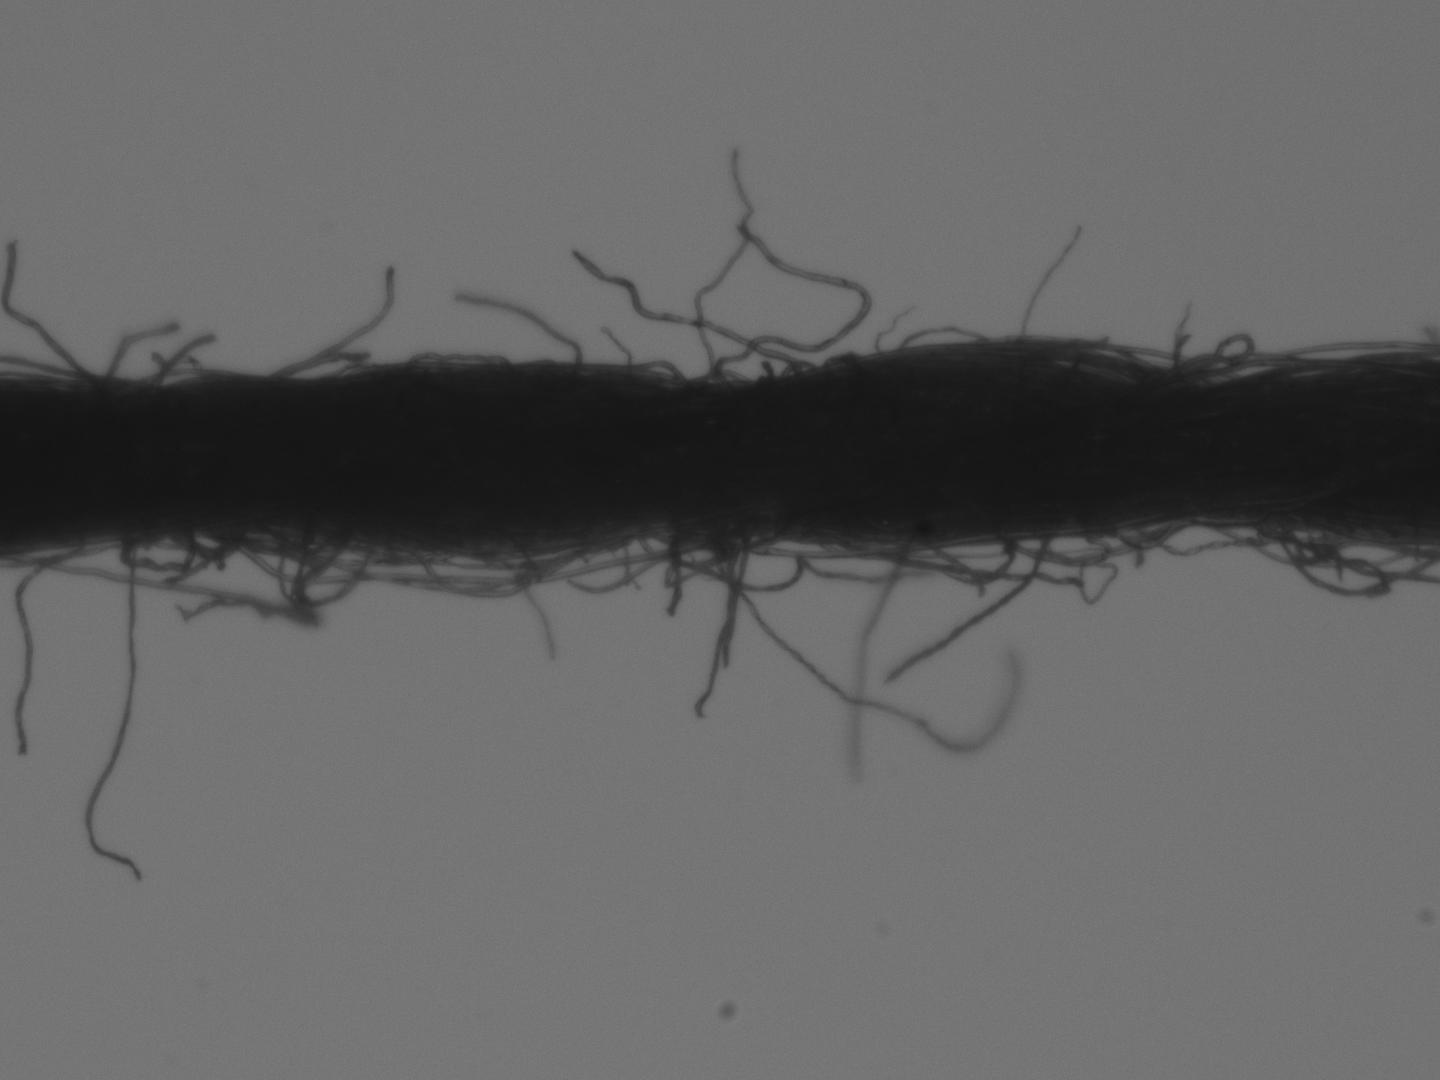loop_fiber: (413, 533, 618, 602), (1282, 516, 1426, 592), (662, 516, 803, 591), (998, 514, 1189, 565), (688, 530, 979, 563), (1147, 329, 1310, 387), (276, 524, 379, 607), (220, 530, 354, 589), (1201, 517, 1357, 565), (1128, 513, 1274, 555), (893, 318, 988, 355), (118, 528, 194, 572), (130, 362, 232, 393), (170, 530, 249, 563), (616, 352, 687, 382), (403, 351, 501, 372), (777, 351, 819, 380)
protruding_fiber: (881, 532, 1045, 683), (82, 529, 145, 889), (271, 267, 392, 380), (5, 239, 84, 378), (455, 289, 579, 371), (689, 537, 737, 720), (1022, 225, 1083, 339)
